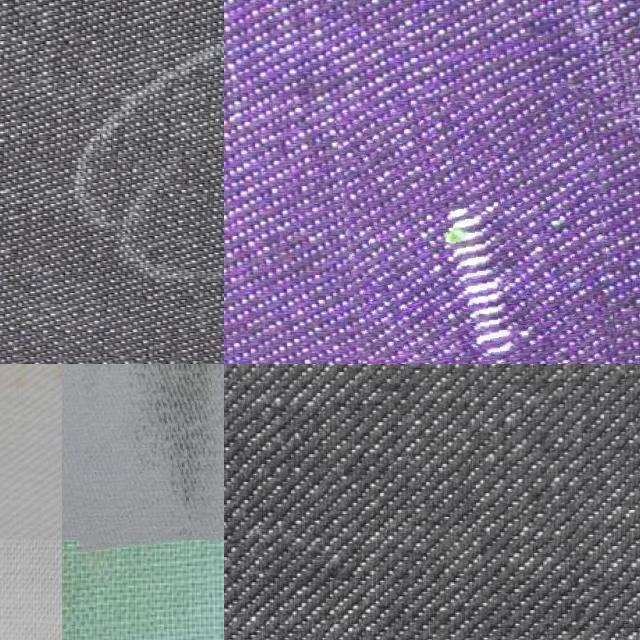Hole: (54, 364, 224, 545)
Thread_other: (345, 92, 621, 364)
